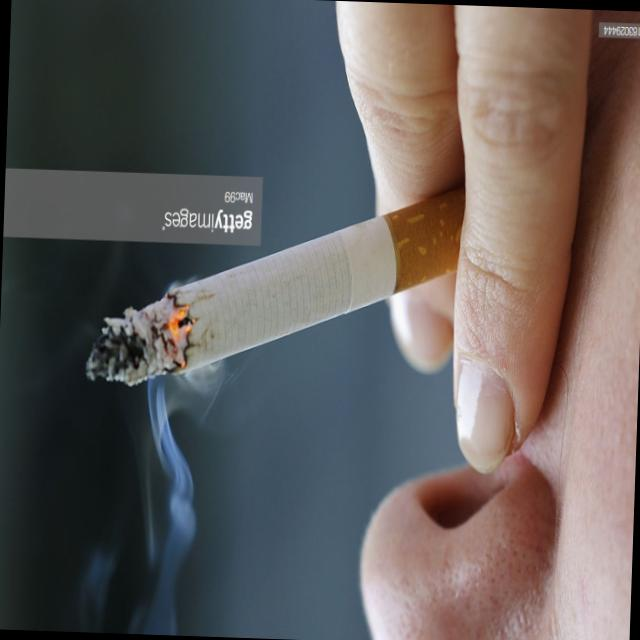cigarette: (77, 174, 471, 429)
